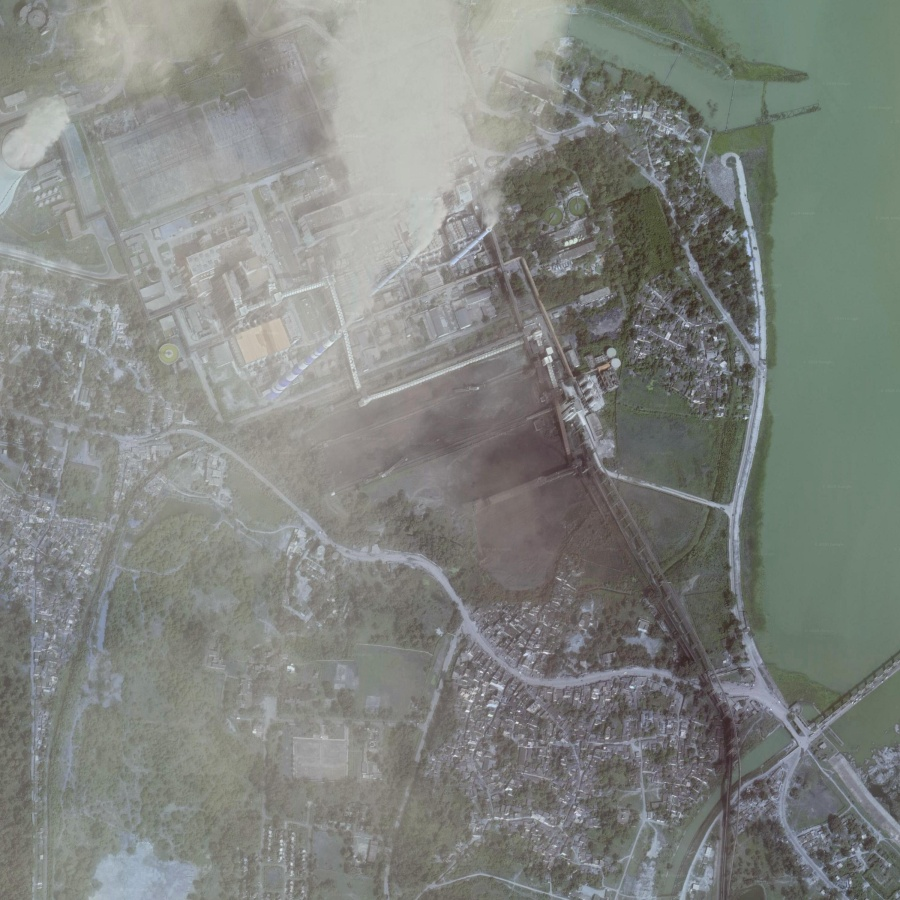PowerPlant: (229, 149, 519, 430)
